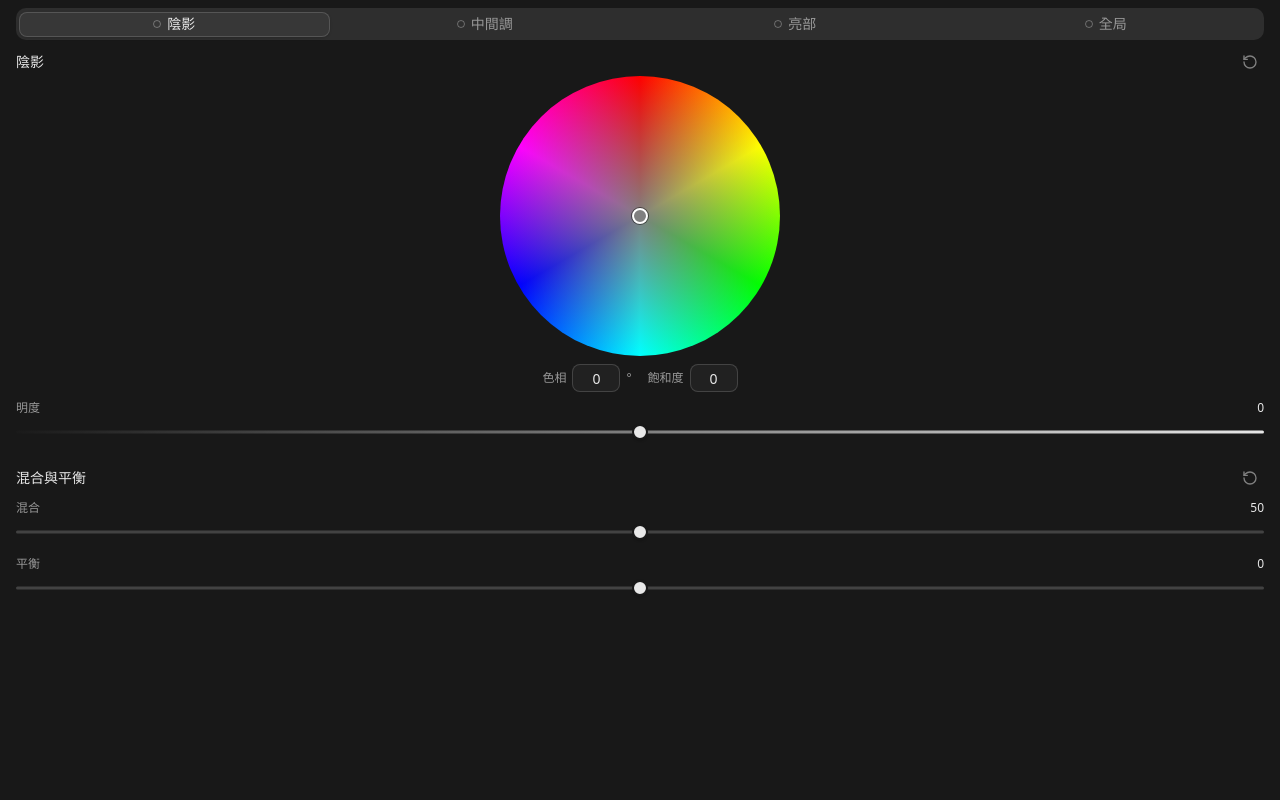
Scenario: GradingPanel › accepts typed hue and saturation values
The image size is (1280, 800).
Replace the text in the field labelled "色相" with "370": (596, 378) [572,364,620,392]
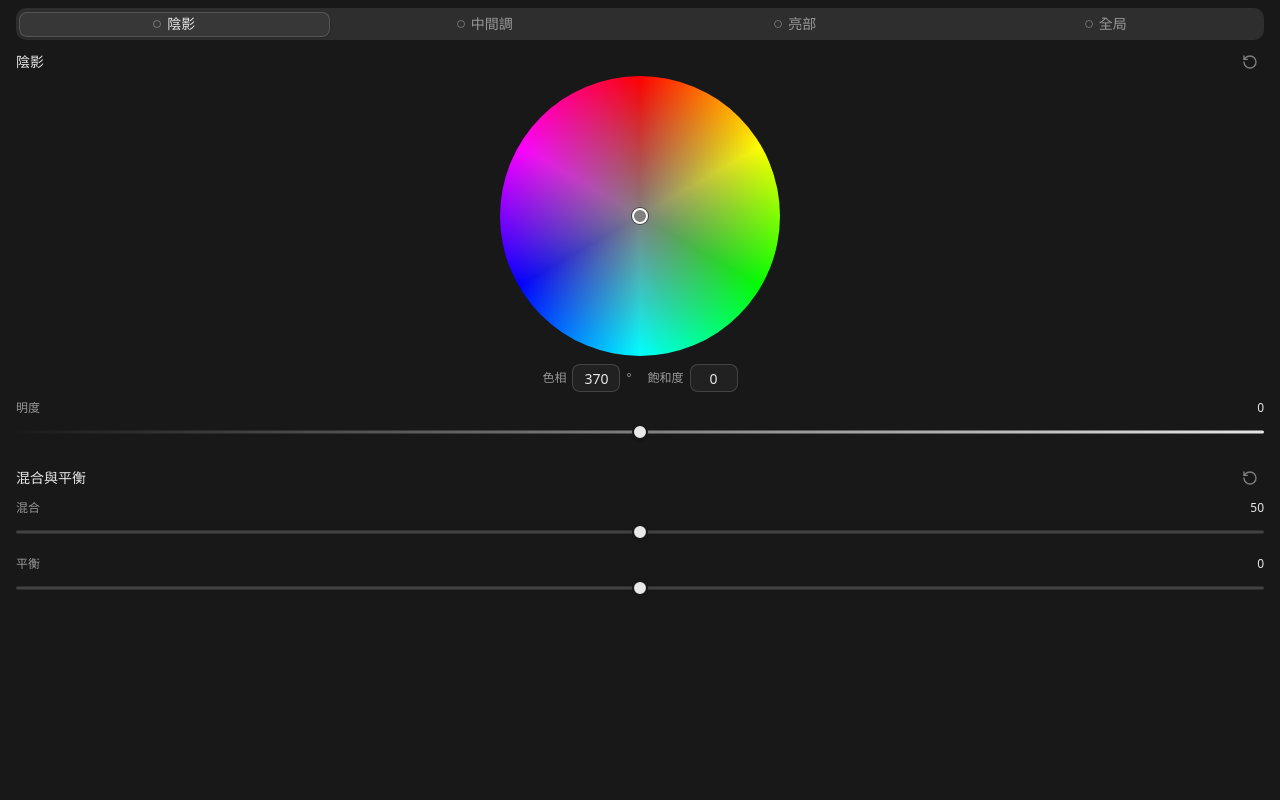
Press Enter in the field labelled "色相", box [572,364,620,392]
Leave the field labelled "色相", box [572,364,620,392]
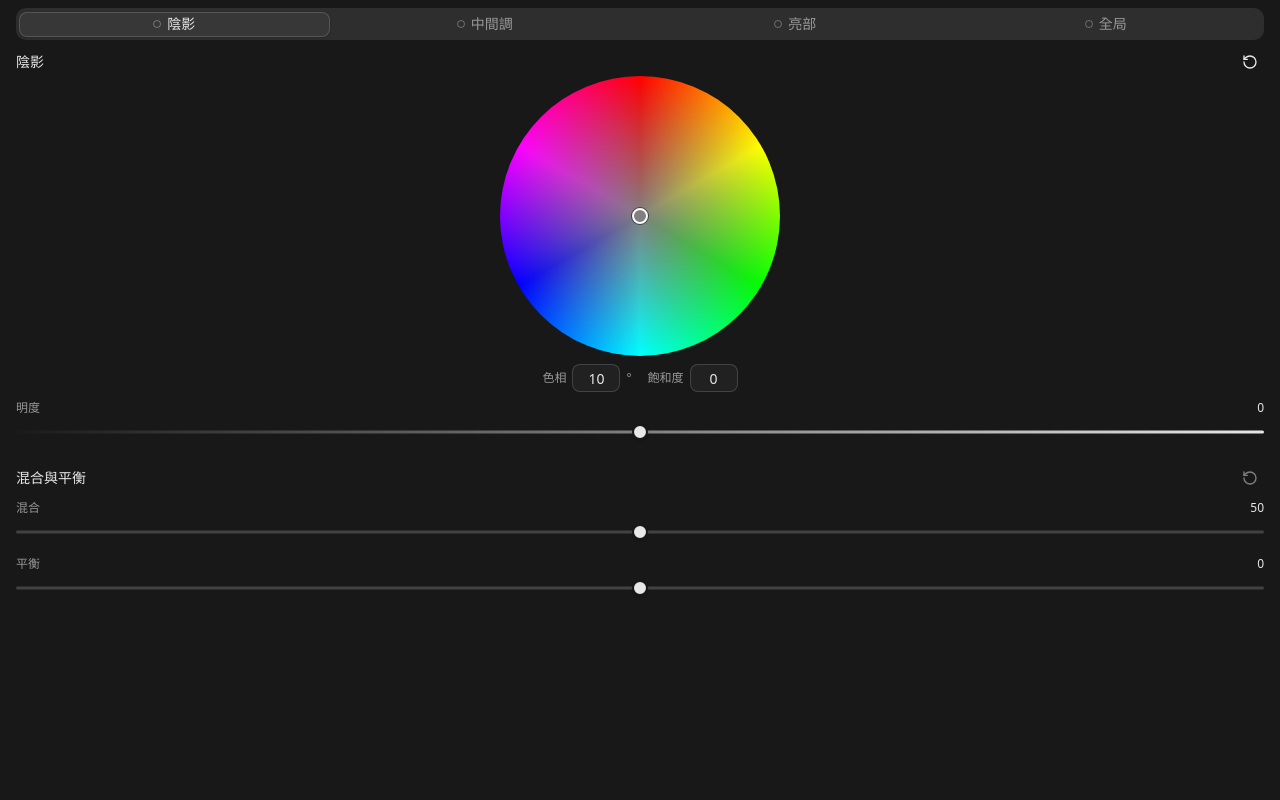
Replace the text in the field labelled "飽和度" with "150": (714, 378) [690,364,738,392]
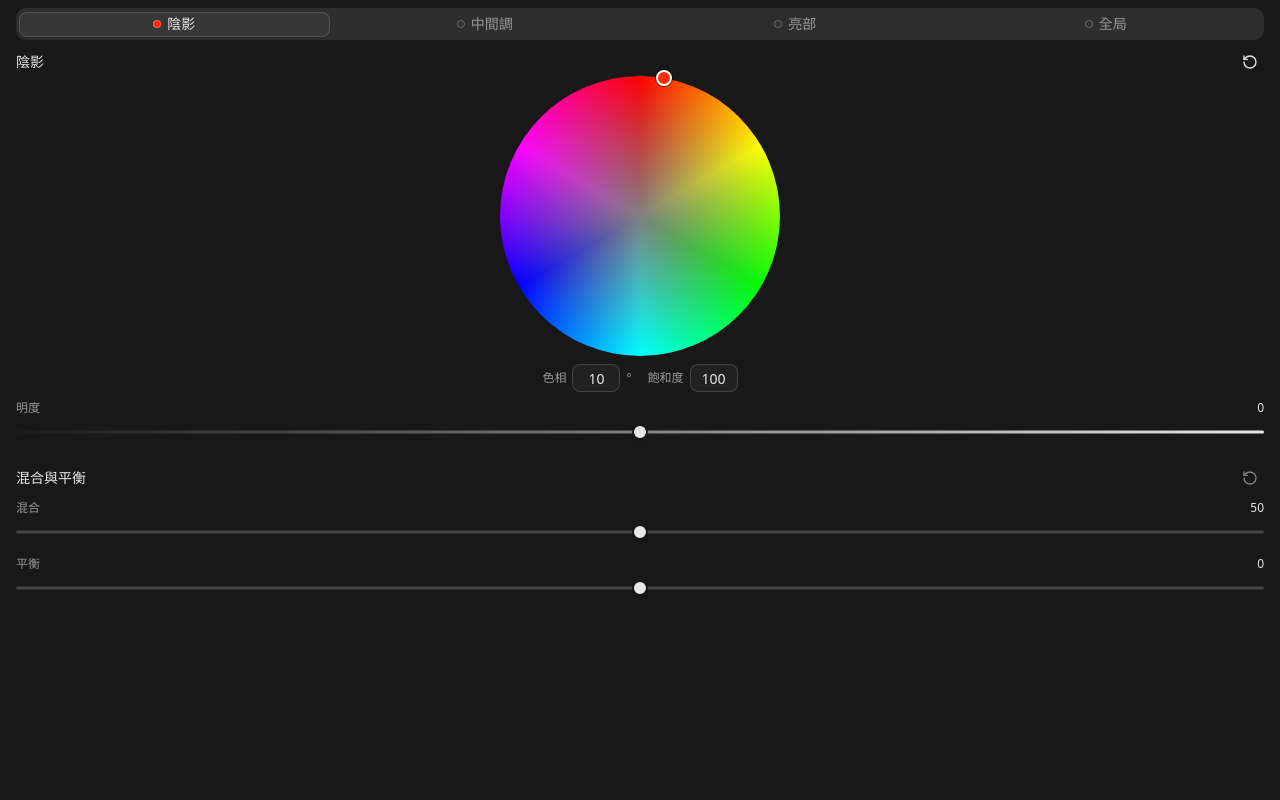
// 亂打的內容不套用，欄位回到原本的值
Replace the text in the field labelled "飽和度" with "abc": (714, 378) [690,364,738,392]
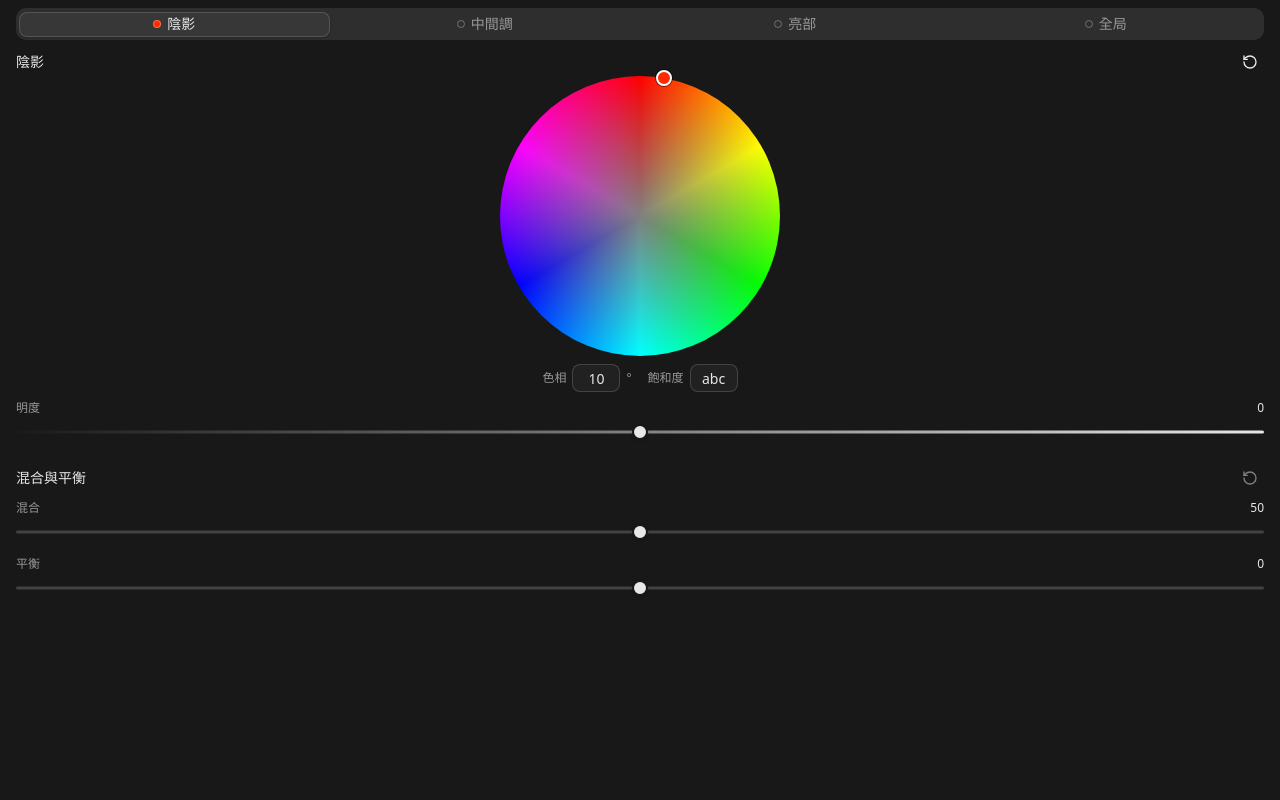
Leave the field labelled "飽和度", box [690,364,738,392]
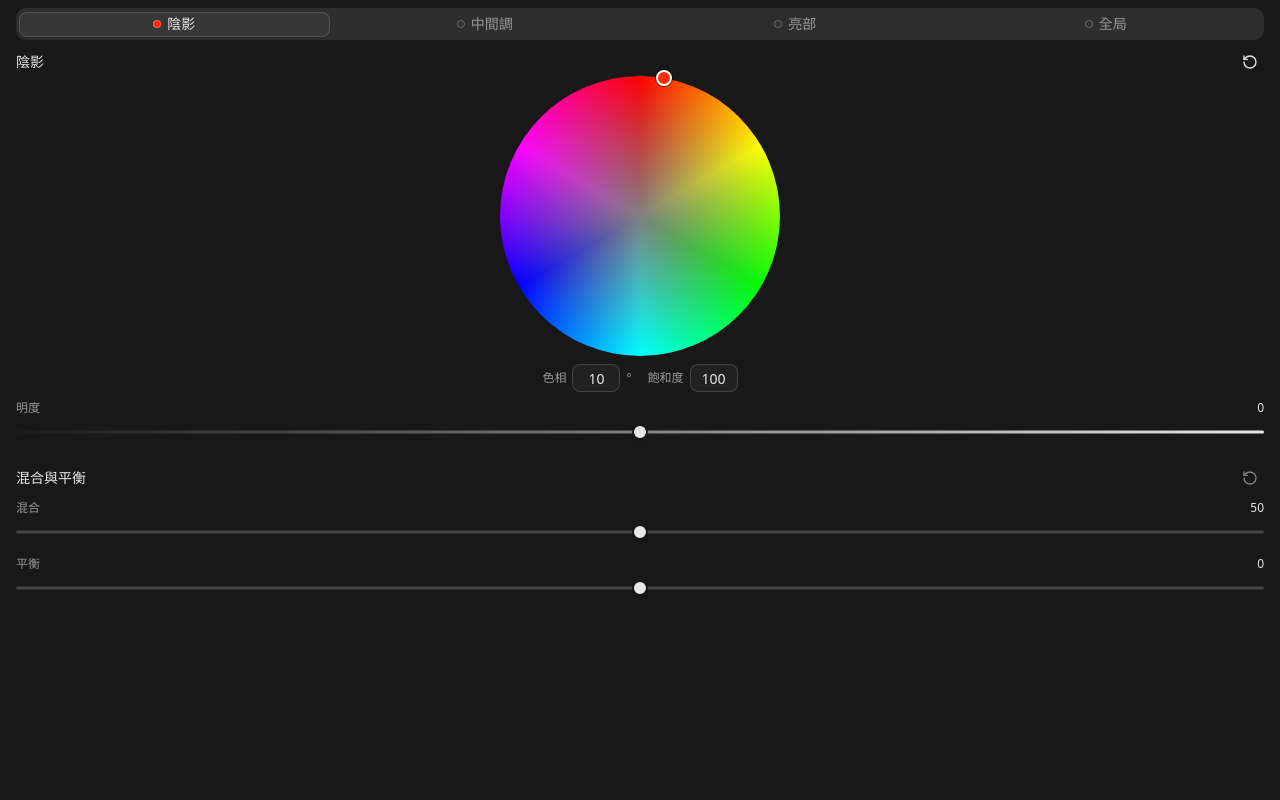
Now the field labelled "飽和度" holds "100", box [690,364,738,392]
